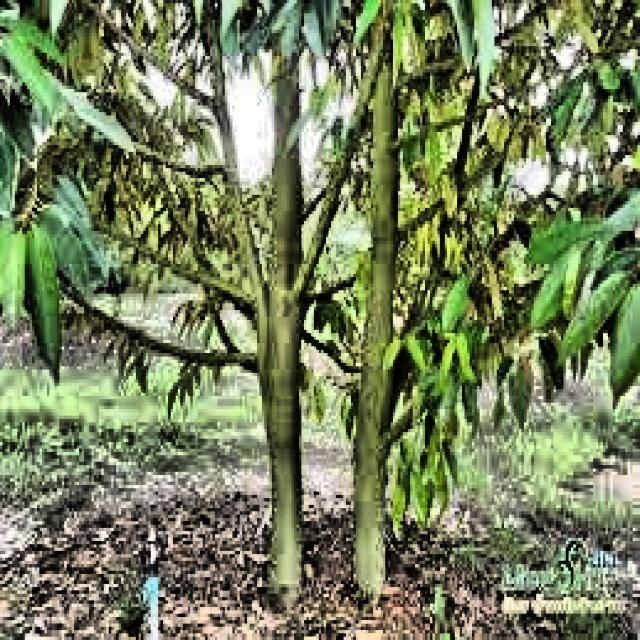arvore: (229, 12, 326, 602)
